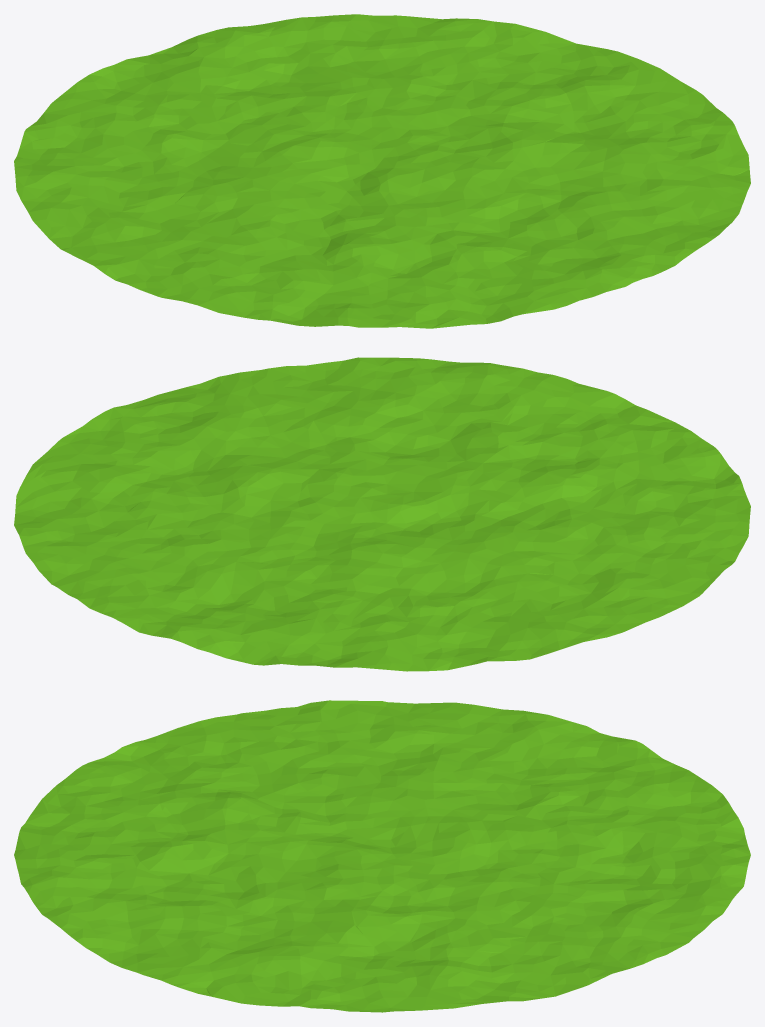
Rendered from low_poly_terrain1.fbx.
3 renders of one model, top to bottom at view 1: azimuth 30°, elevation 25°; view 2: azimuth 150°, elevation 25°; view 3: azimuth 270°, elevation 25°, orthographic.
Parts seen in each view (by area): view 1: terrain1; view 2: terrain1; view 3: terrain1.
Boxes of the visible parts, x1=… form: terrain1: x1=14, y1=14, x2=750, y2=328; terrain1: x1=14, y1=357, x2=750, y2=671; terrain1: x1=14, y1=700, x2=750, y2=1012.
Size of the model in its own units: 45554 by 860 by 45554.
